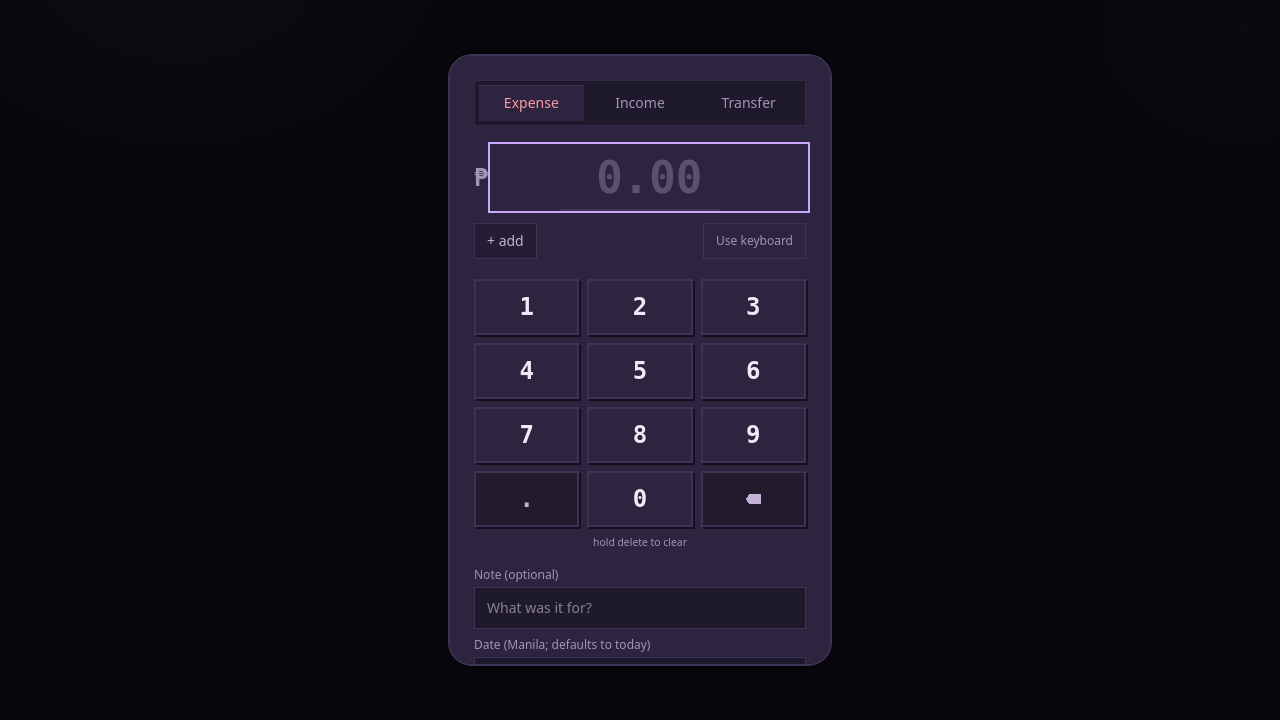
Test case: AddSheet keypad (touch) › types at the caret, not at the end
The image size is (1280, 720).
Click the button "1".
click(527, 307)  # box [474,279,579,335]
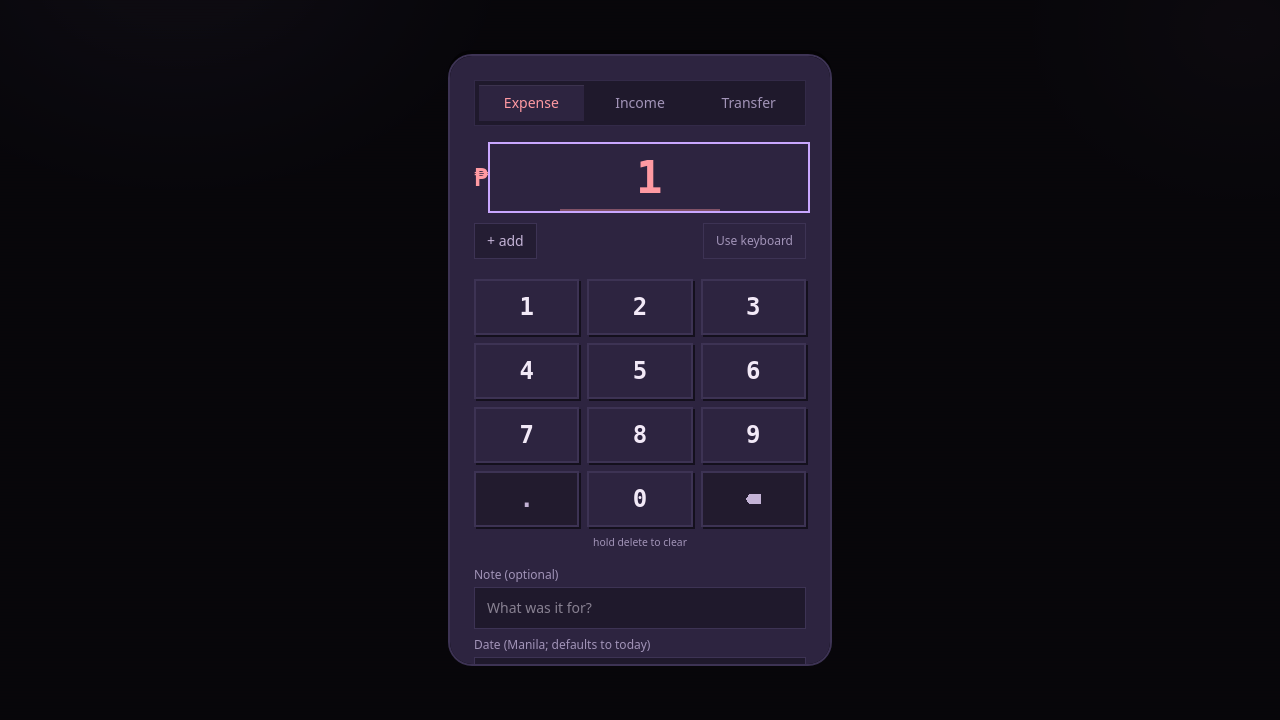
Click the button "2".
click(640, 307)  # box [587,279,693,335]
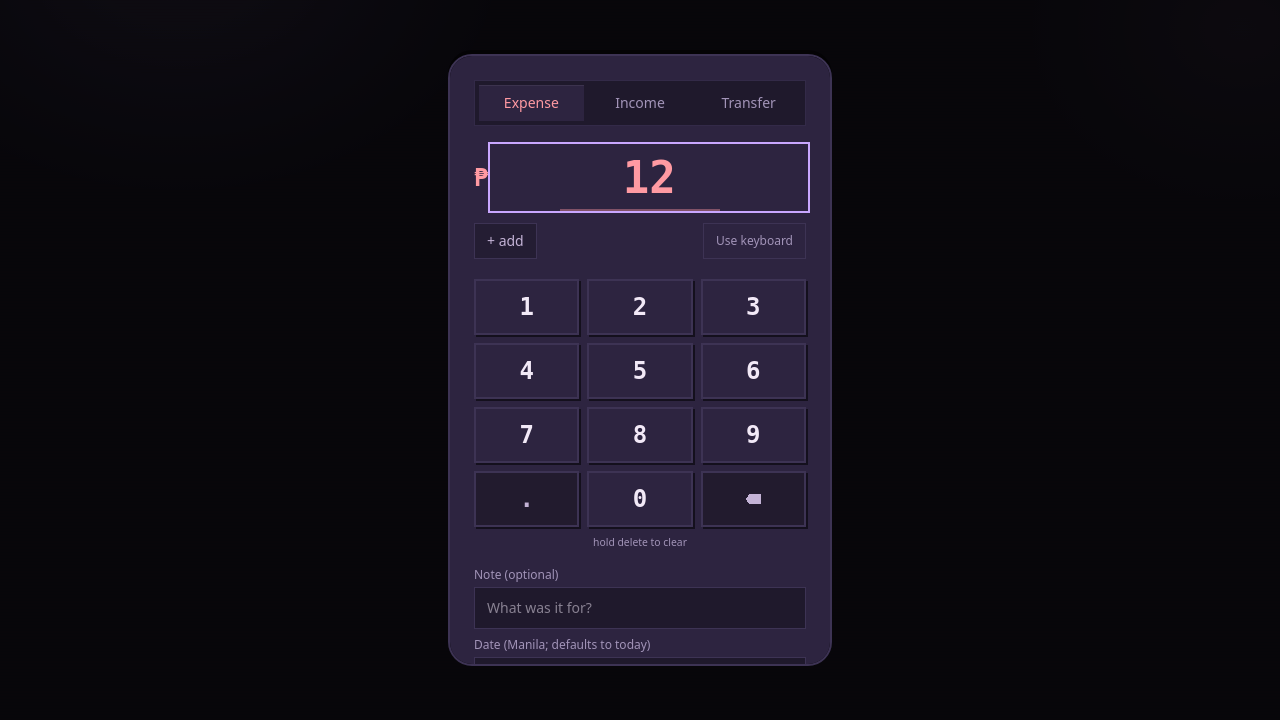
Click the button "5".
click(640, 371)  # box [587,343,693,399]
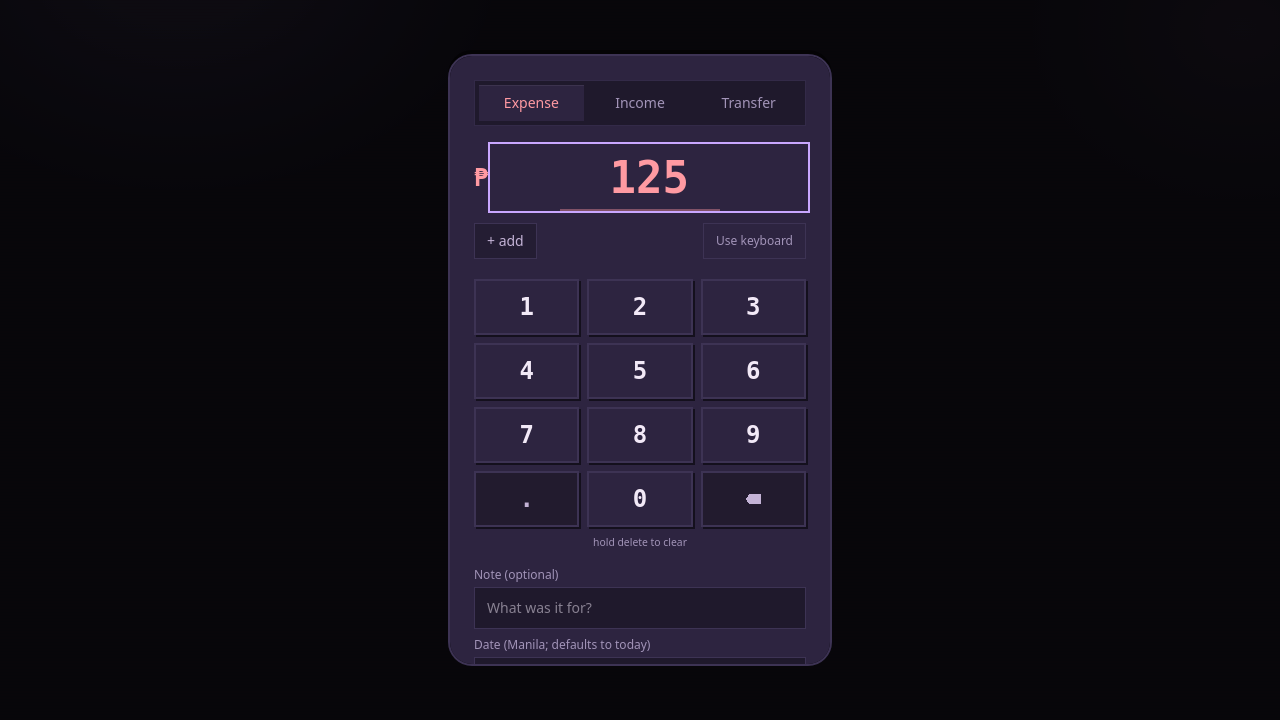
Click the button "0".
click(640, 499)  # box [587,471,693,527]
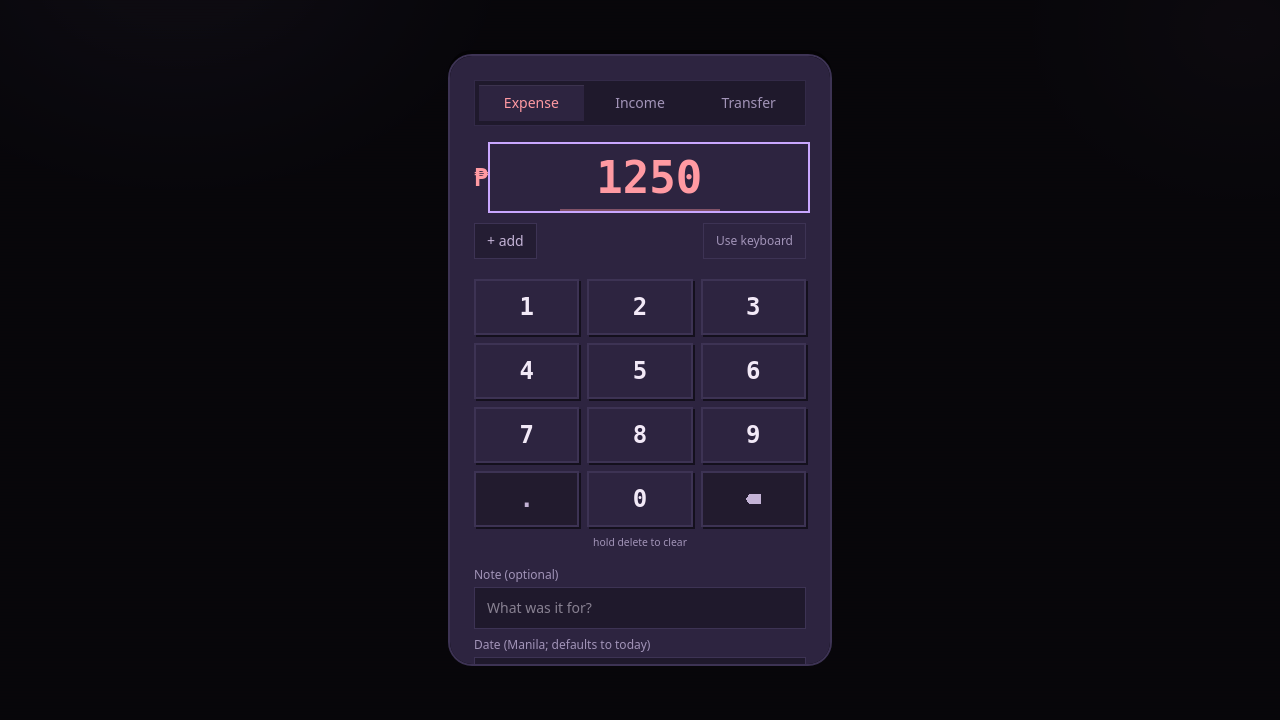
Result: the field named "Amount in pesos" holds "1250" at [492,146,806,209]
Click the button "9".
click(753, 435)  # box [701,407,806,463]
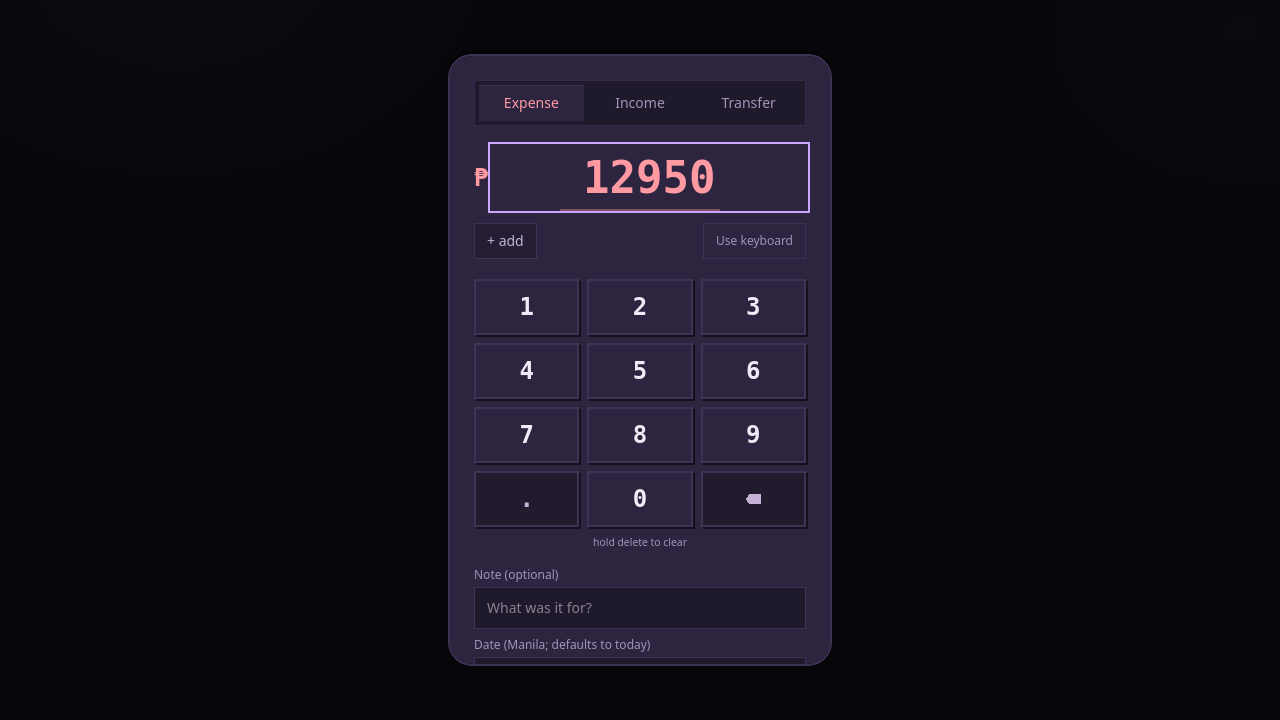
Result: the field named "Amount in pesos" holds "12950" at [492,146,806,209]
